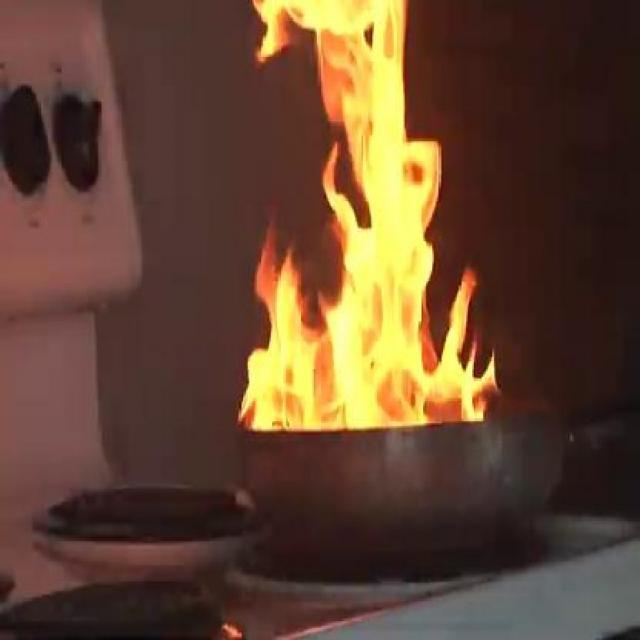fire: (206, 2, 511, 430)
